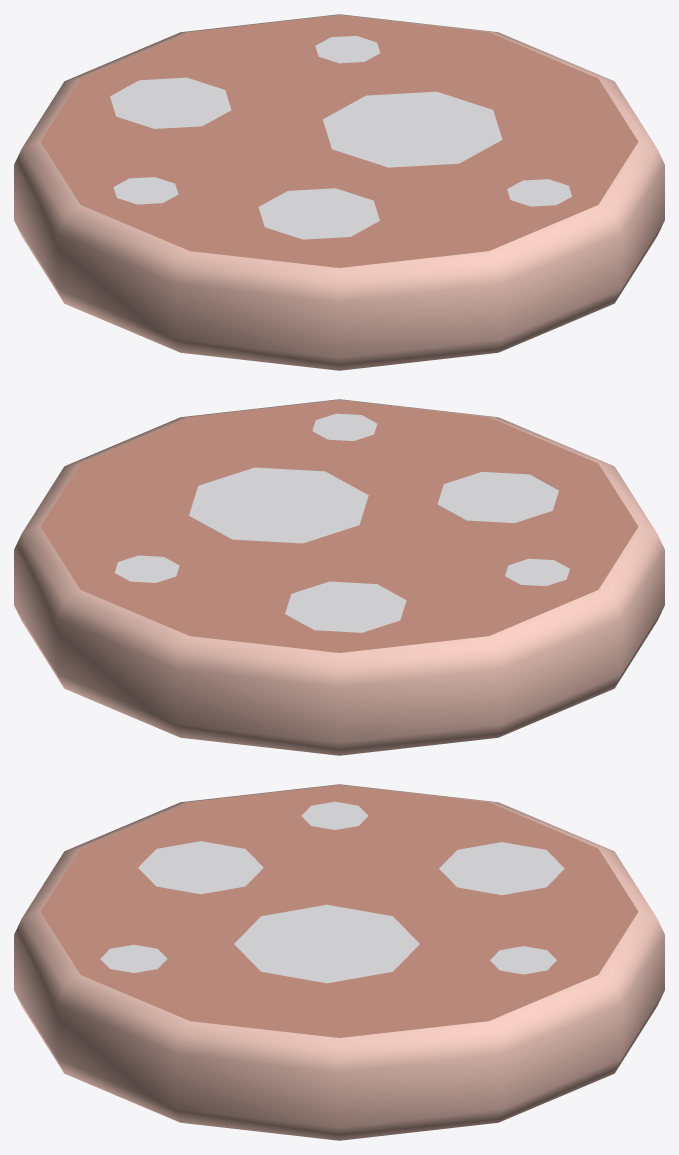
The model's file is Sausage_slise.fbx.
3 views of the same model, one above another, from view 1: azimuth 30°, elevation 25°; view 2: azimuth 150°, elevation 25°; view 3: azimuth 270°, elevation 25° (orthographic).
Parts seen in each view (by area): view 1: Sausage_slise; view 2: Sausage_slise; view 3: Sausage_slise.
Part boxes in pixels (x1,y1,x2,y2): Sausage_slise: (14, 14, 664, 370); Sausage_slise: (14, 399, 664, 755); Sausage_slise: (14, 784, 664, 1140).
Bounding box in the file's own units: 66.66 × 66.66 × 11.55.
